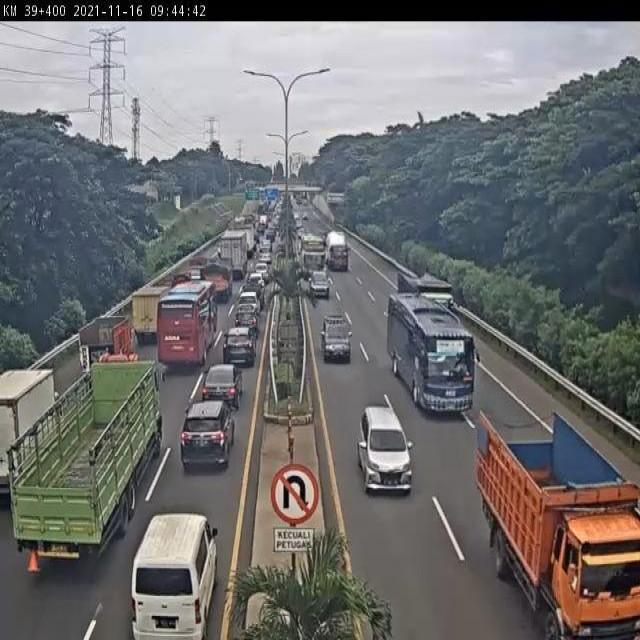big bus: (389, 295, 475, 417), (156, 286, 213, 371)
car: (359, 405, 412, 495), (178, 408, 233, 476), (200, 369, 241, 411), (323, 312, 353, 360), (221, 329, 253, 368), (232, 308, 259, 335), (236, 288, 261, 316)
small bus: (129, 512, 220, 640)
small truck: (128, 287, 166, 345)
truck-l-: (12, 363, 164, 553), (399, 267, 458, 332)
truck-m-: (478, 413, 640, 640), (0, 362, 59, 502), (77, 319, 132, 369), (196, 264, 232, 304)
